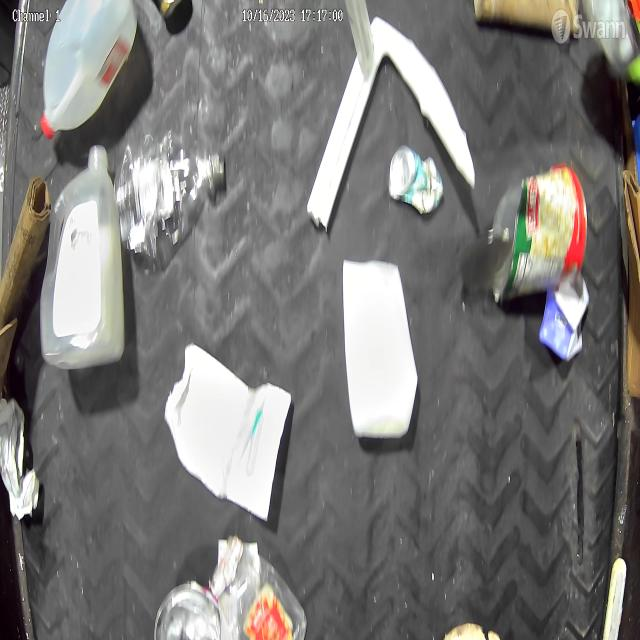can: (488, 166, 589, 309), (386, 144, 447, 234)
milk_jug: (38, 144, 126, 378), (36, 0, 144, 137)
plastic_bottle: (112, 135, 233, 269)
